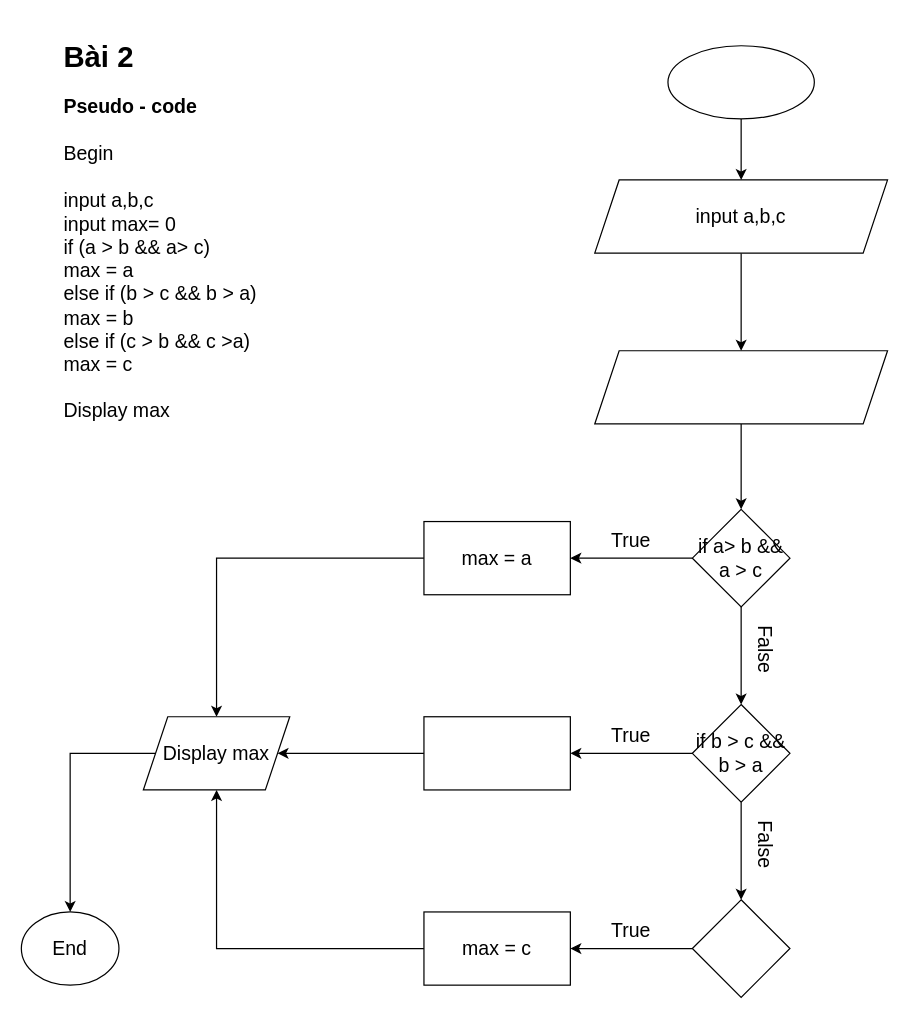
Image size: 909x1019. Some labels were removed from this diagram. Here are the shapes that lost their labels. From the top down, the box of each, then its label:
(667, 45, 814, 119): Begin
(594, 350, 888, 424): input max=0
(423, 716, 570, 790): max = b
(691, 899, 790, 997): If c > b && c > a
